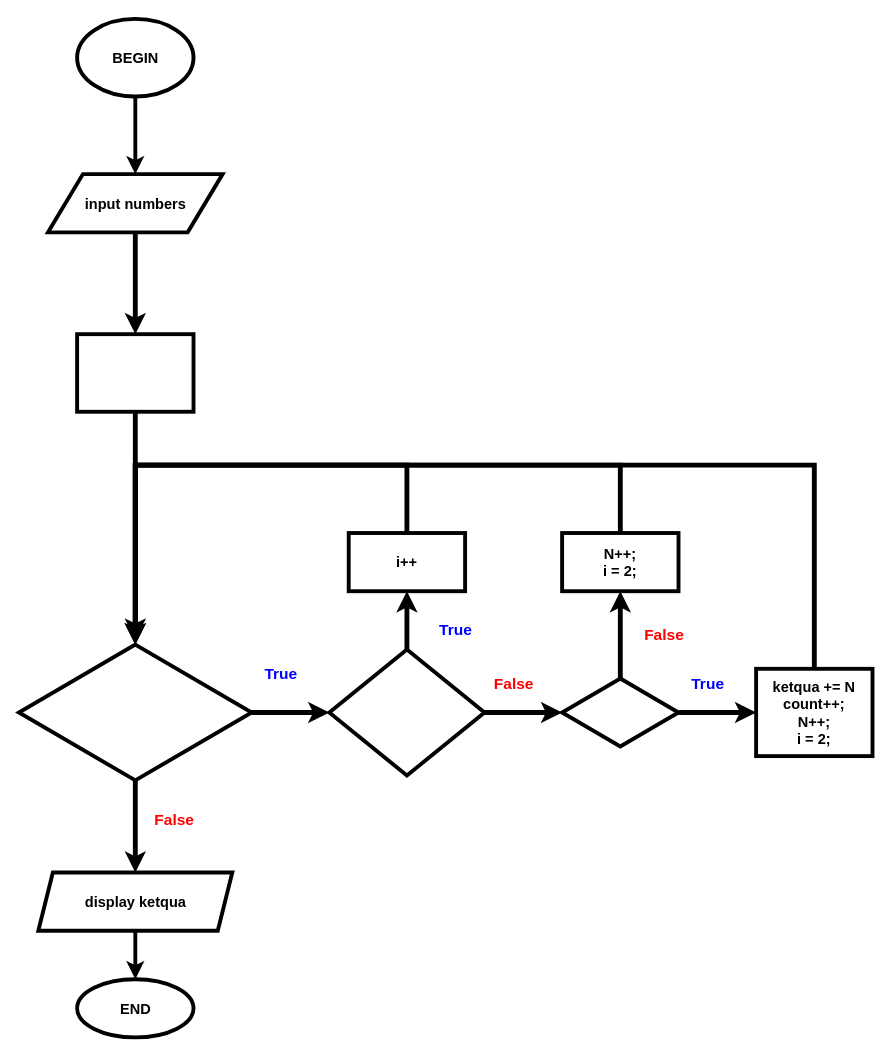
Image size: 890x1055. Some labels were removed from this diagram. The shapes that lost their labels are listed below. From the top down, each one's box as (x1, y1, x2, y2) in pixels, then its label:
(75, 332, 195, 413): let count = 0, N = 2, i = 2
(16, 642, 253, 782): count < numbers
(327, 647, 486, 777): i <= N && N%i <> 0
(560, 676, 680, 748): i = N
